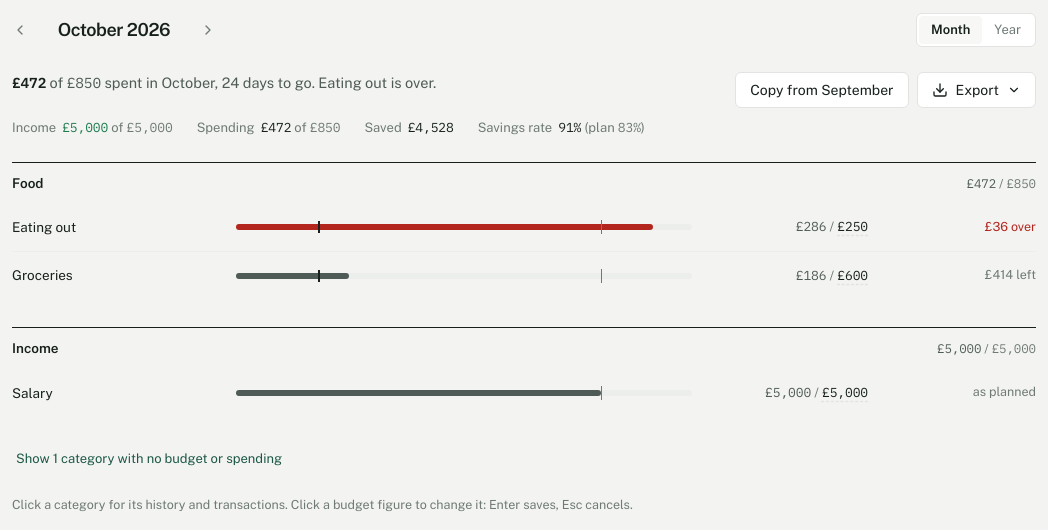
Test: BudgetsView › Escape cancels an edit without saving
This screenshot has width=1048, height=530.
Expected: the text "24 days to go" is shown, [215,74,312,91]
Click the button named "Edit budget for Eating out" at (853, 227), box [833,213,872,241]
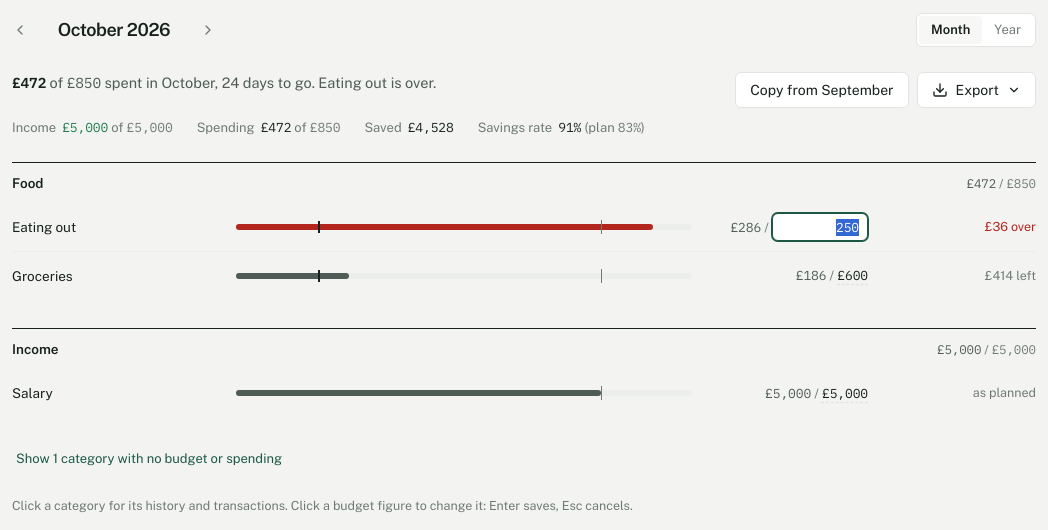
Replace the text in the field named "Budget for Eating out" with "999" at (820, 227), box [772,213,868,241]
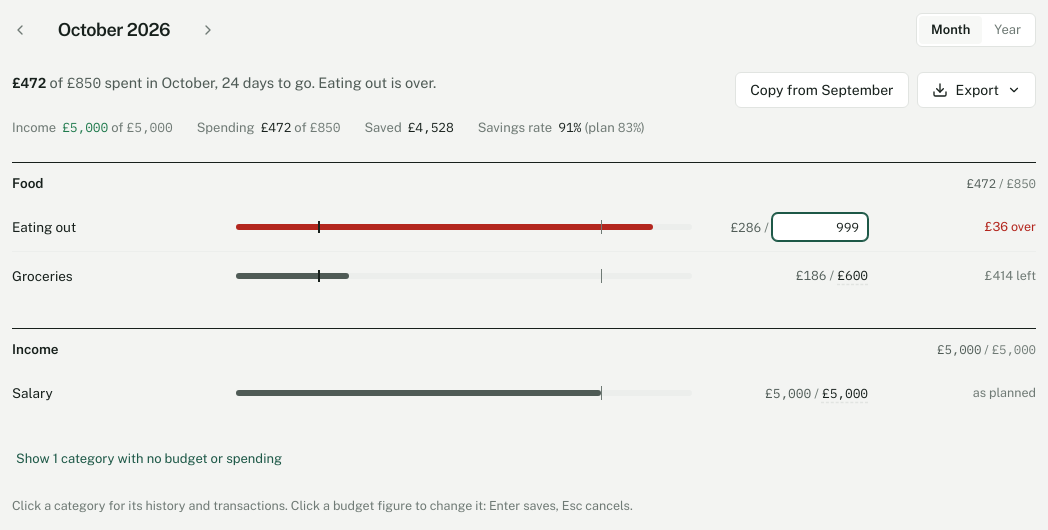
Press Escape in the field named "Budget for Eating out", box [772,213,868,241]
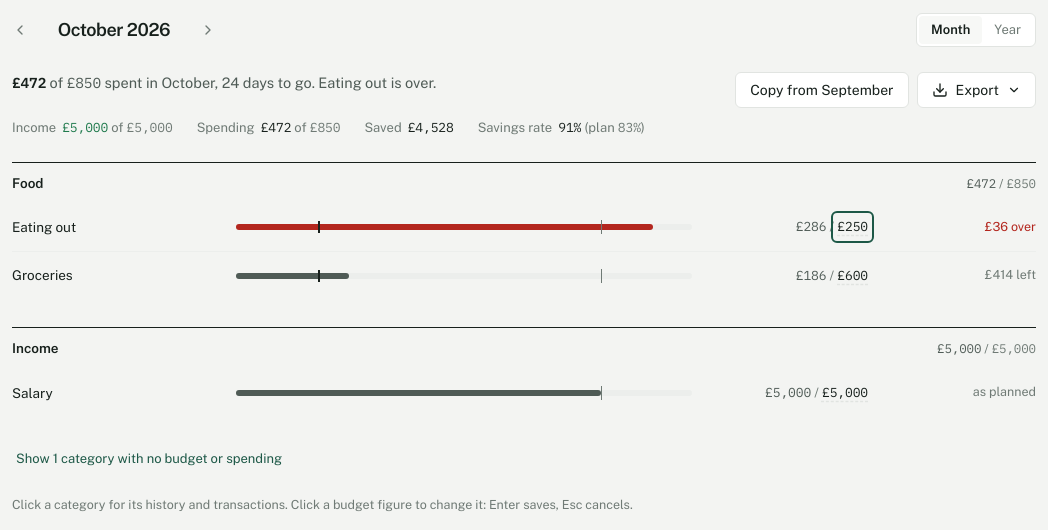
Result: the button named "Edit budget for Eating out, £250" is shown at [833,213,872,241]
